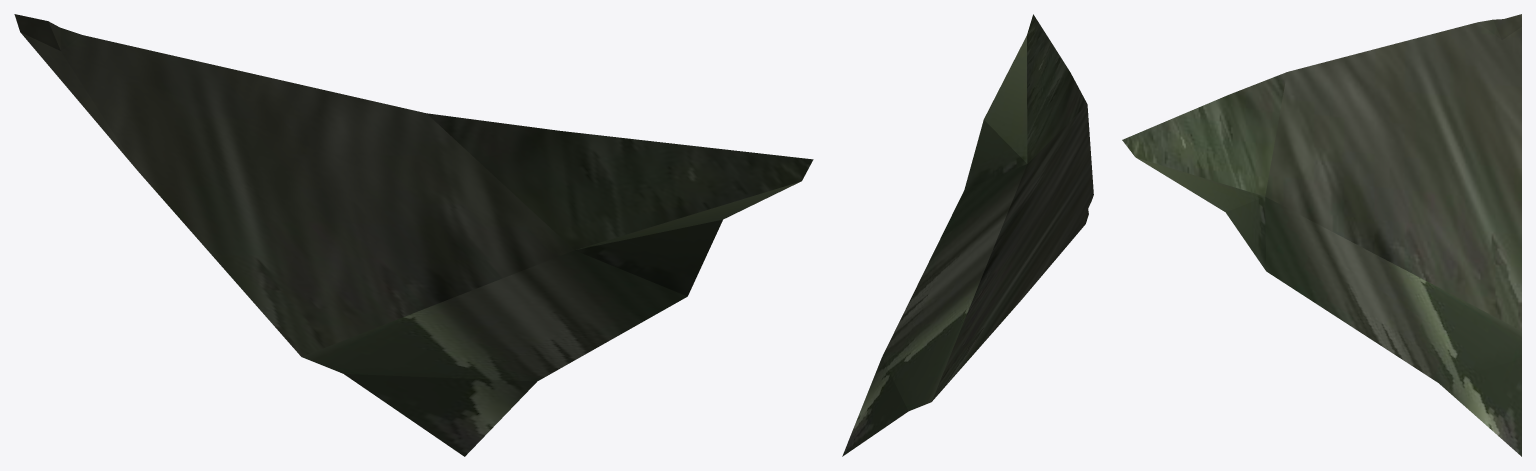
The picture shows the model from 3 angles, left to right: view 1: azimuth 30°, elevation 25°; view 2: azimuth 150°, elevation 25°; view 3: azimuth 270°, elevation 25°; orthographic projection. The views are drawn at different scales.
Bounding box in the file's own units: 1.6 × 1.88 × 2.15.
1 material, 1 textured.
